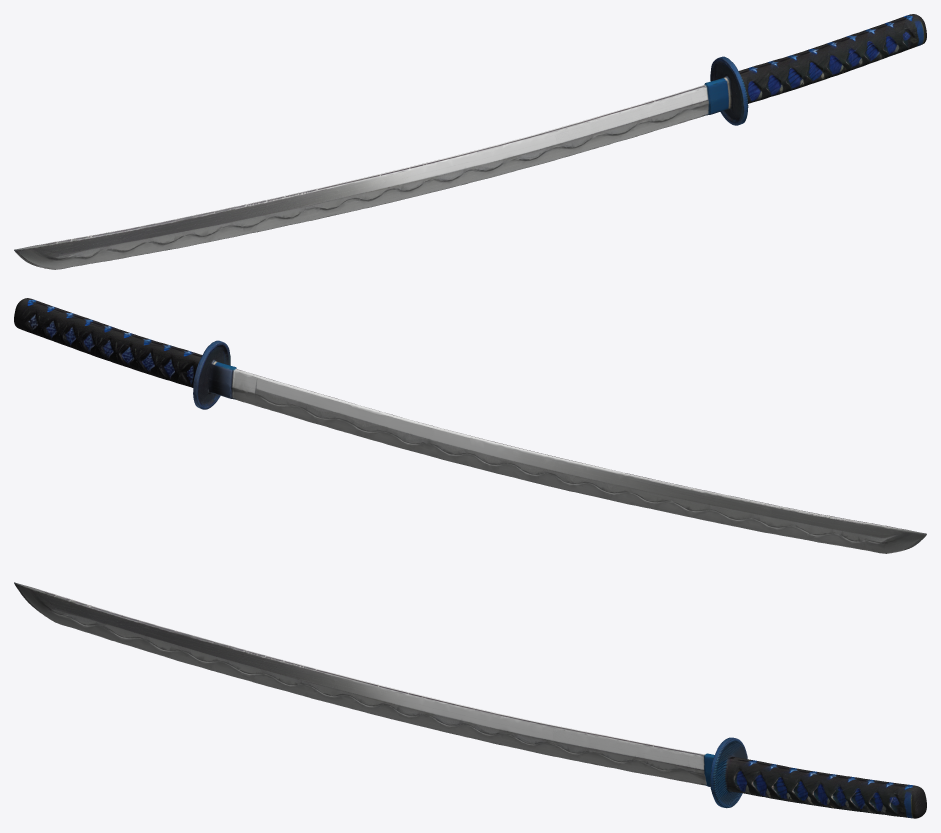
Rendered from jack-sword.glb.
3 renders of one model, top to bottom at view 1: azimuth 30°, elevation 25°; view 2: azimuth 150°, elevation 25°; view 3: azimuth 330°, elevation 25°, orthographic.
Parts seen in each view (by area): view 1: mesh_node; view 2: mesh_node; view 3: mesh_node.
Part boxes in pixels (left/top/right/bottom): mesh_node: left=14, top=14, right=926, bottom=269; mesh_node: left=14, top=298, right=926, bottom=553; mesh_node: left=14, top=582, right=926, bottom=818.
Bounding box in the file's own units: 1.9 × 0.1289 × 0.1198.
Materials: 1 (1 with a texture image).
